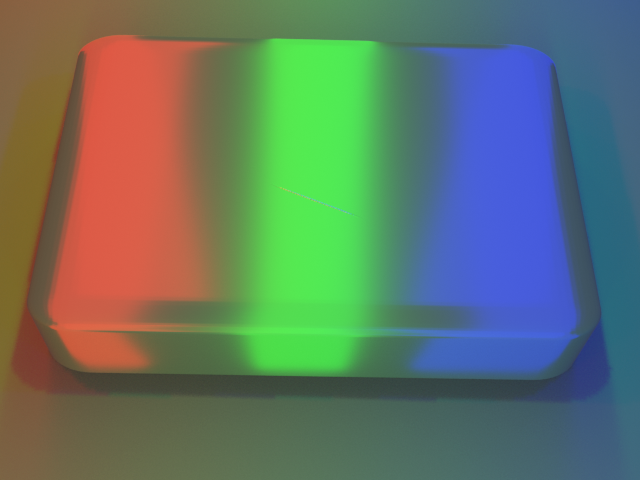scratch: (188, 127, 441, 272)
